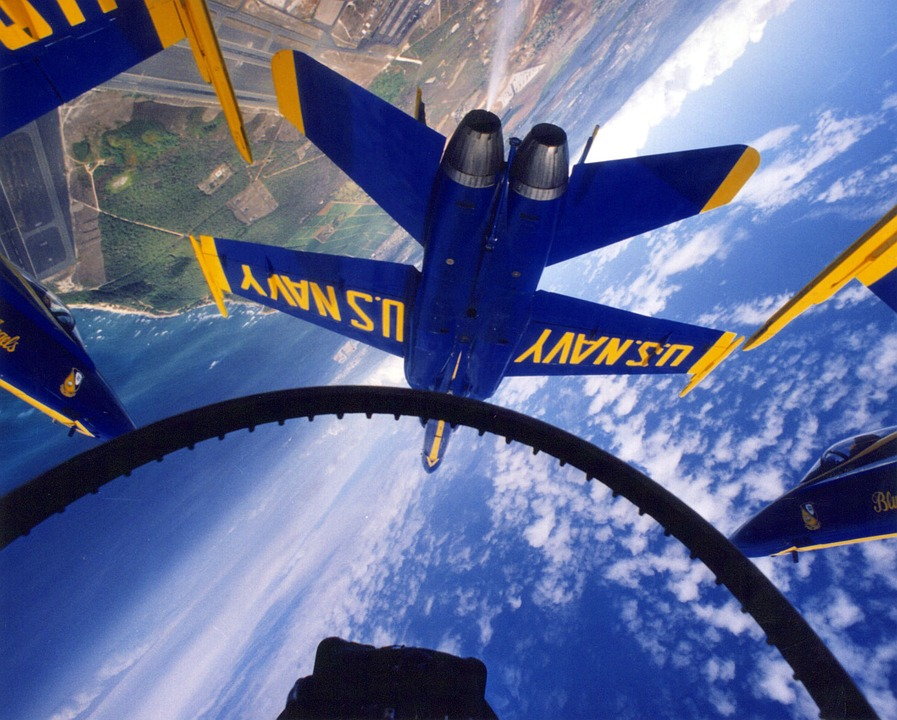airplane: (189, 49, 746, 474), (1, 1, 252, 443), (728, 205, 897, 564)
